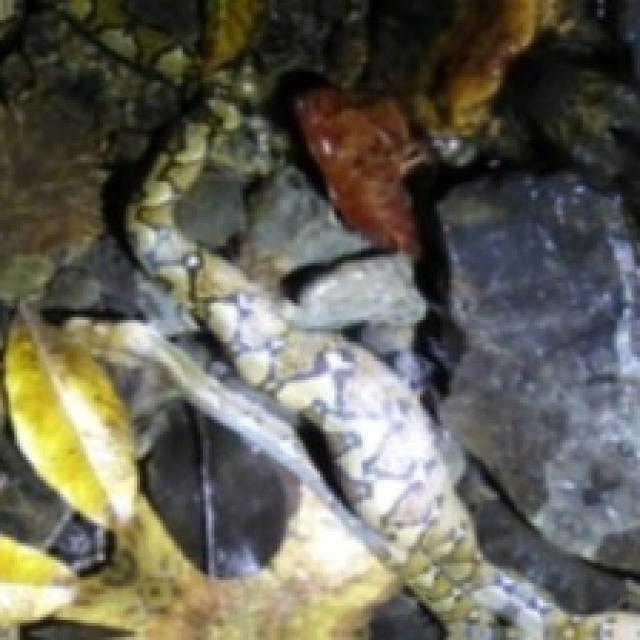reticulated python: (132, 100, 530, 619)
